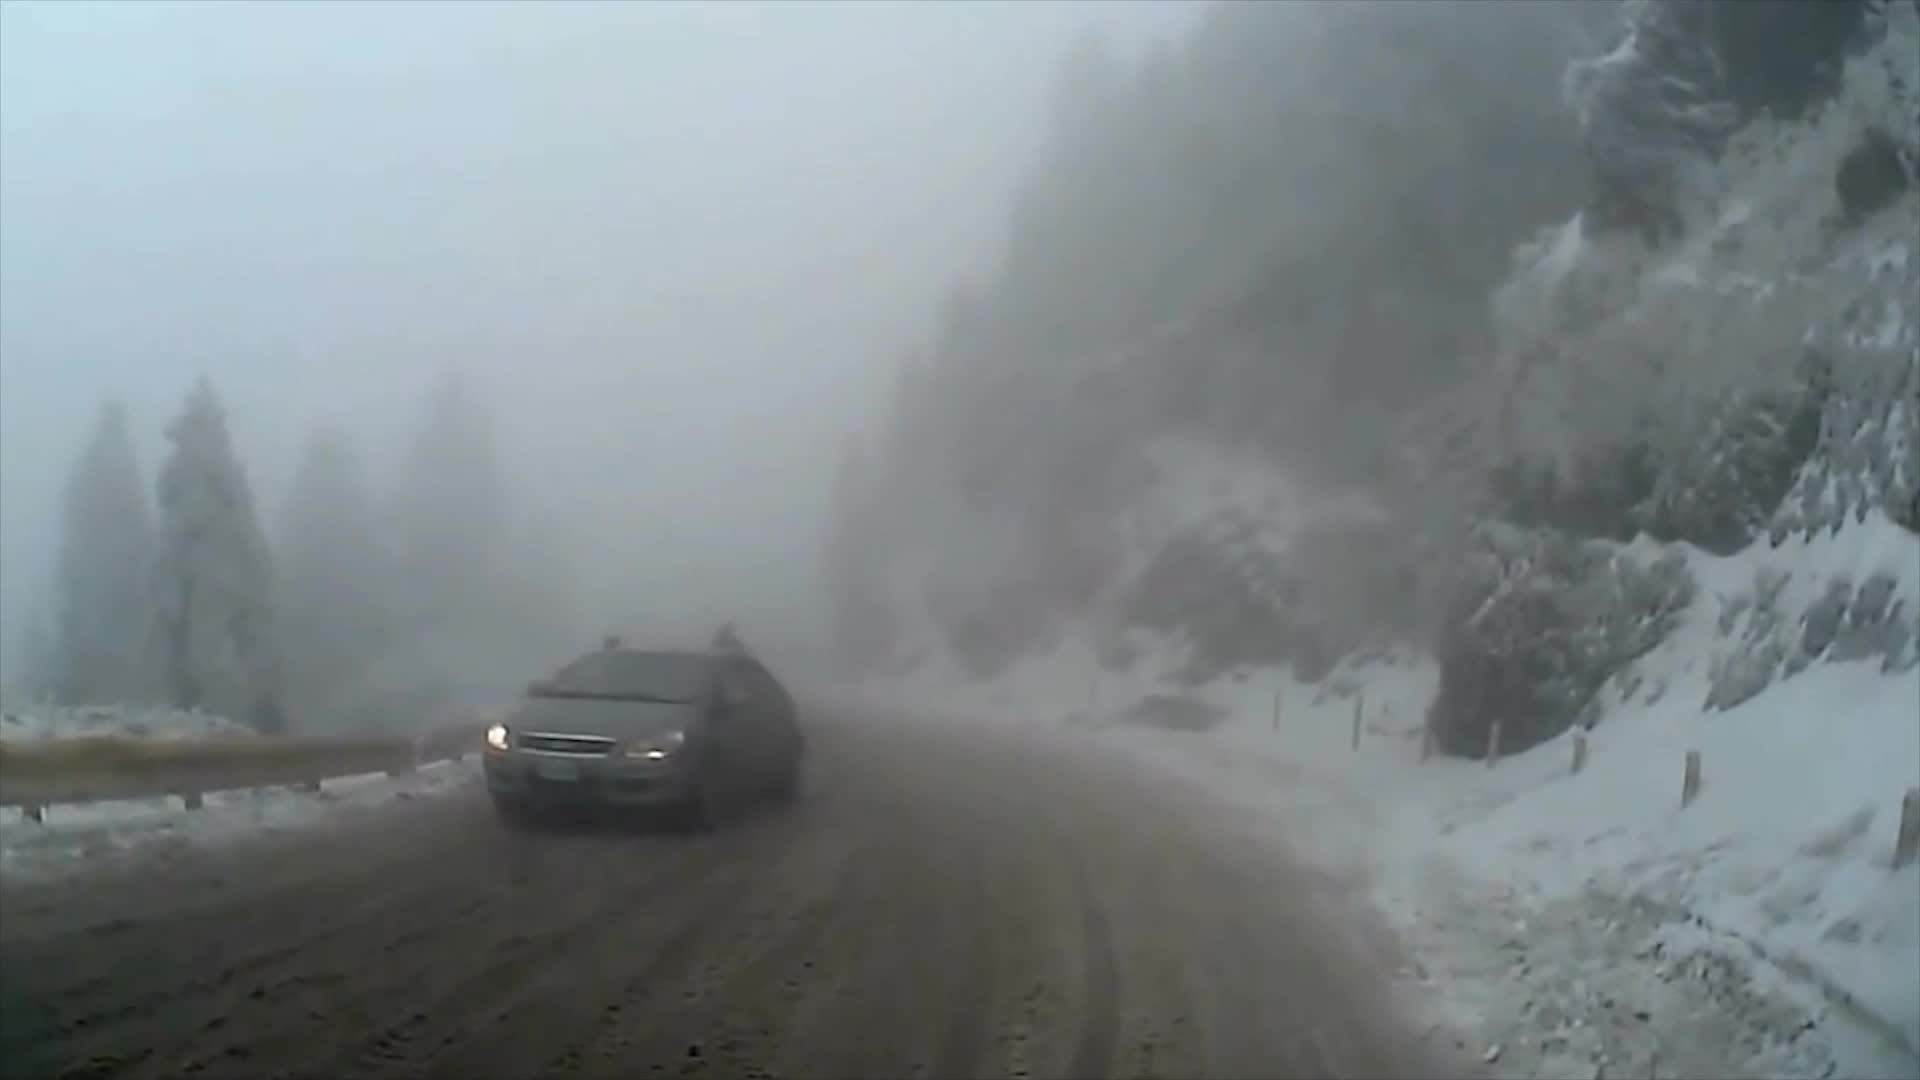vehicle: (481, 644, 800, 835)
